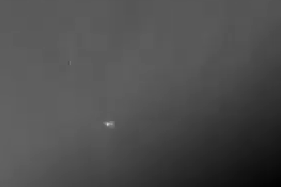Target: (69, 62, 114, 125)
